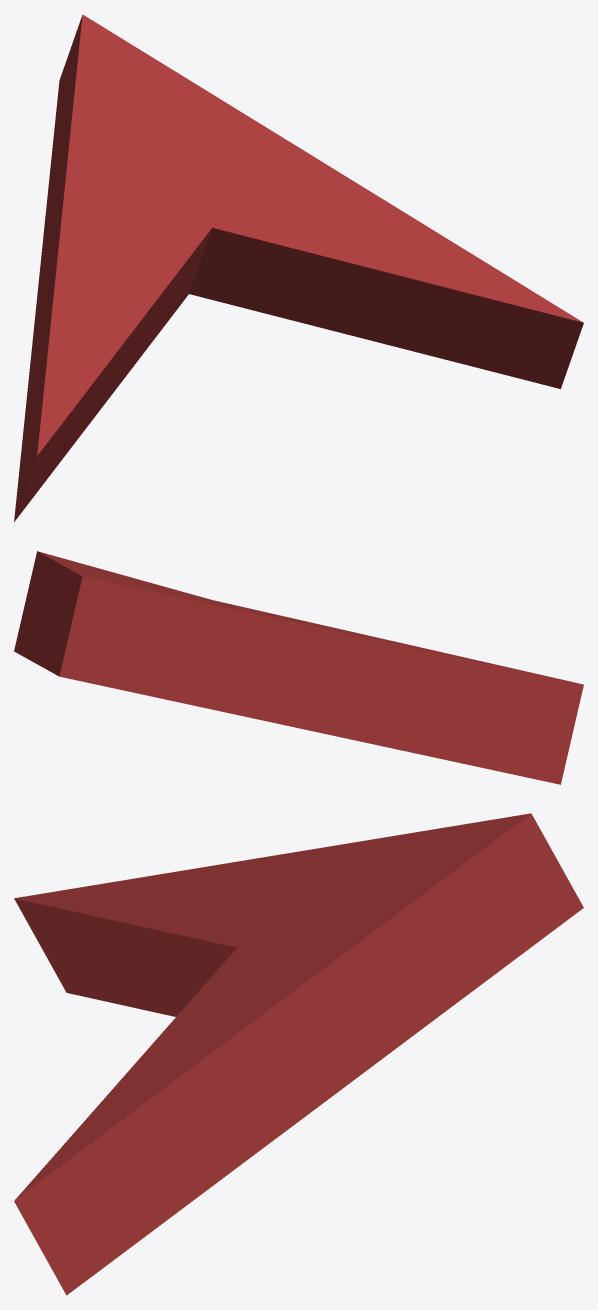
Rendered from DirectionTilted.gltf.
3 renders of one model, top to bottom at view 1: azimuth 30°, elevation 25°; view 2: azimuth 150°, elevation 25°; view 3: azimuth 270°, elevation 25°, orthographic. The views are drawn at different scales.
Parts seen in each view (by area): view 1: Cube; view 2: Cube; view 3: Cube.
Part boxes in pixels (x1,y1,x2,y2): Cube: (14, 14, 583, 521); Cube: (14, 551, 583, 784); Cube: (14, 813, 583, 1295).
Size of the model in its own units: 0.8243 by 0.4201 by 0.6557.
